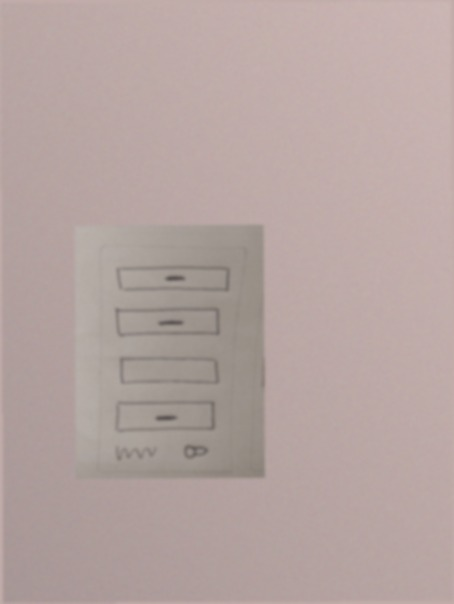button: (115, 263, 233, 299), (113, 399, 217, 438), (112, 306, 224, 340)
switch: (182, 442, 212, 462)
text: (114, 443, 159, 464)
text_input: (114, 353, 224, 390)
